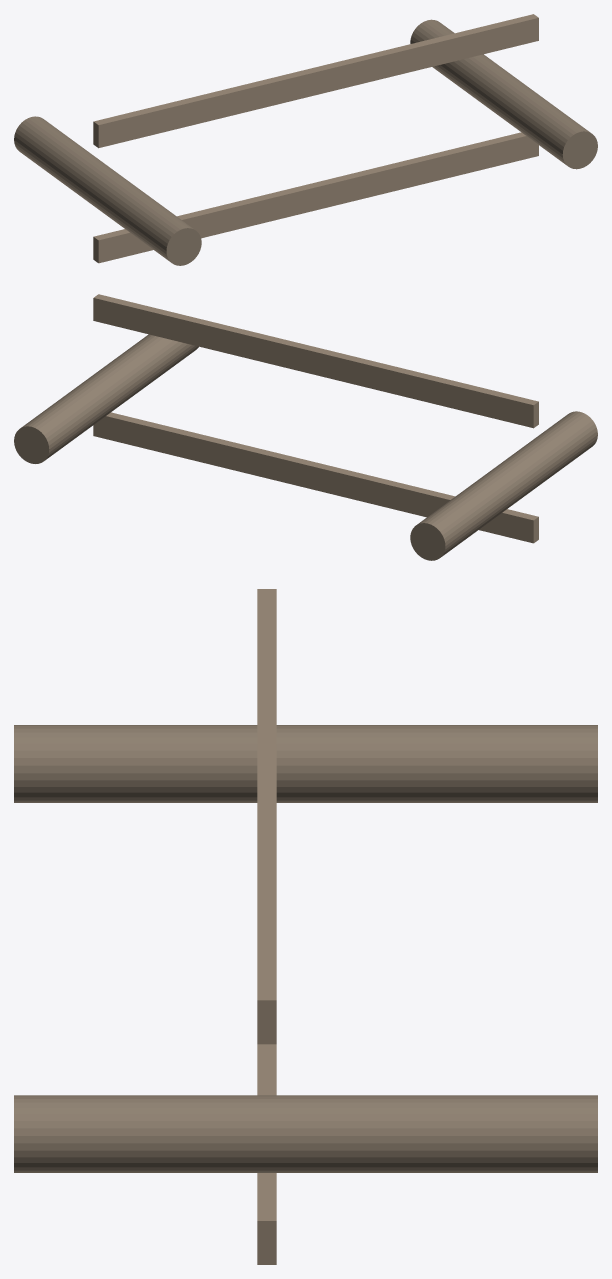
Rendered from wooden_fence.glb.
3 views of the same model, one above another, from view 1: azimuth 30°, elevation 25°; view 2: azimuth 150°, elevation 25°; view 3: azimuth 270°, elevation 25° (orthographic). The views are drawn at different scales.
Parts seen in each view (by area): view 1: geometry_0; view 2: geometry_0; view 3: geometry_0.
Boxes of the visible parts, x1,y1,x2,y2 form: geometry_0: [14, 14, 597, 265]; geometry_0: [14, 294, 597, 560]; geometry_0: [14, 589, 597, 1264].
Size of the model in its own units: 2 by 0.6 by 1.2.
